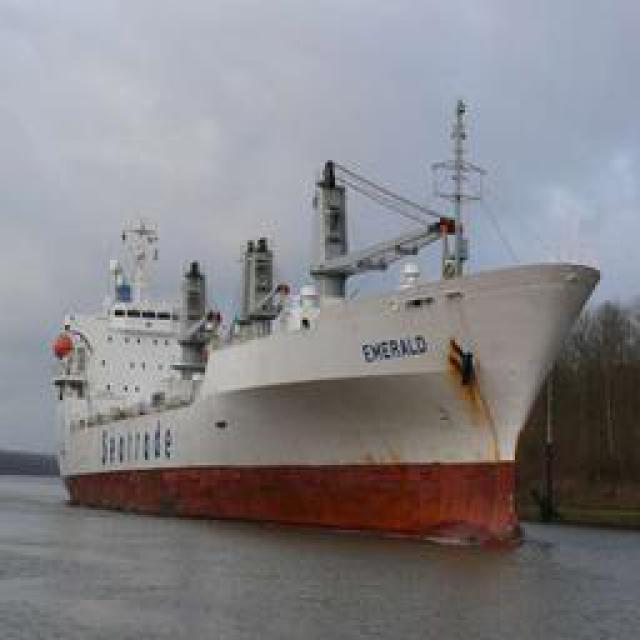Ship: (47, 219, 600, 544)
